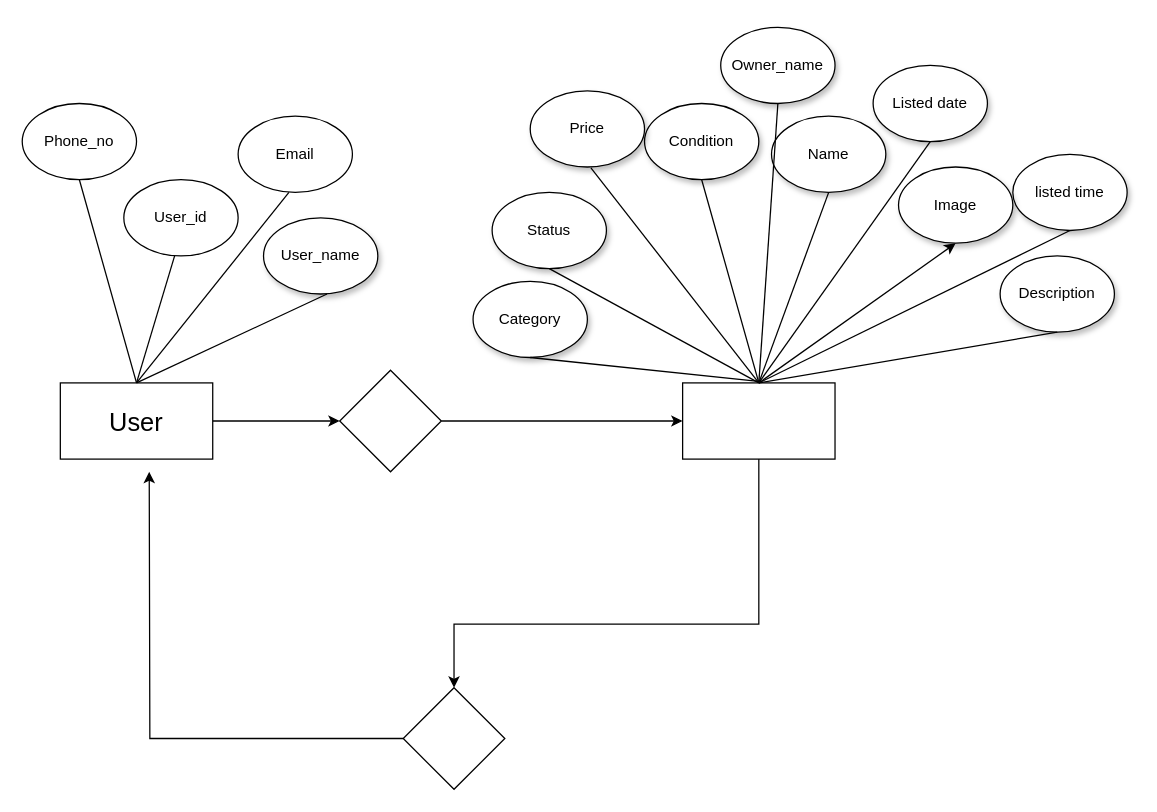
Some shapes in this 1157 by 812 pixel diagram are drawn without their labels. Each missing label, with the centre of its shape:
"Items" belongs at point (758, 420).
"Lists" belongs at point (389, 420).
"Rented" belongs at point (453, 737).
